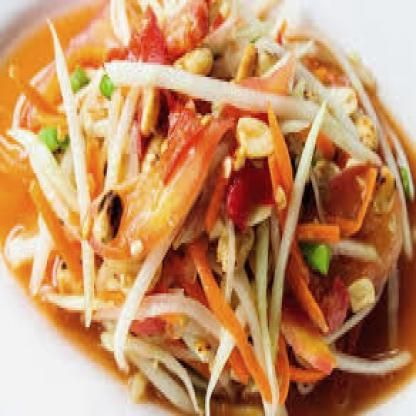Papaya Salad: (0, 0, 414, 414)
